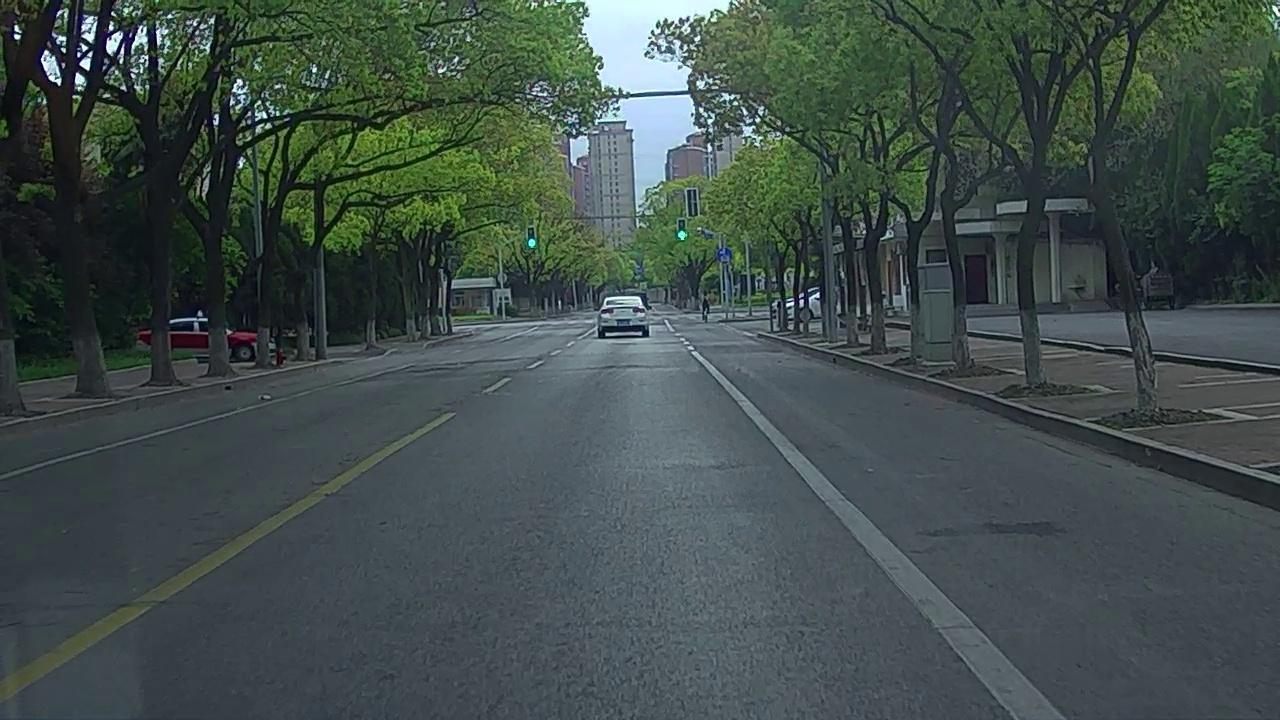traffic_light: (527, 227, 537, 252), (678, 219, 686, 242)
